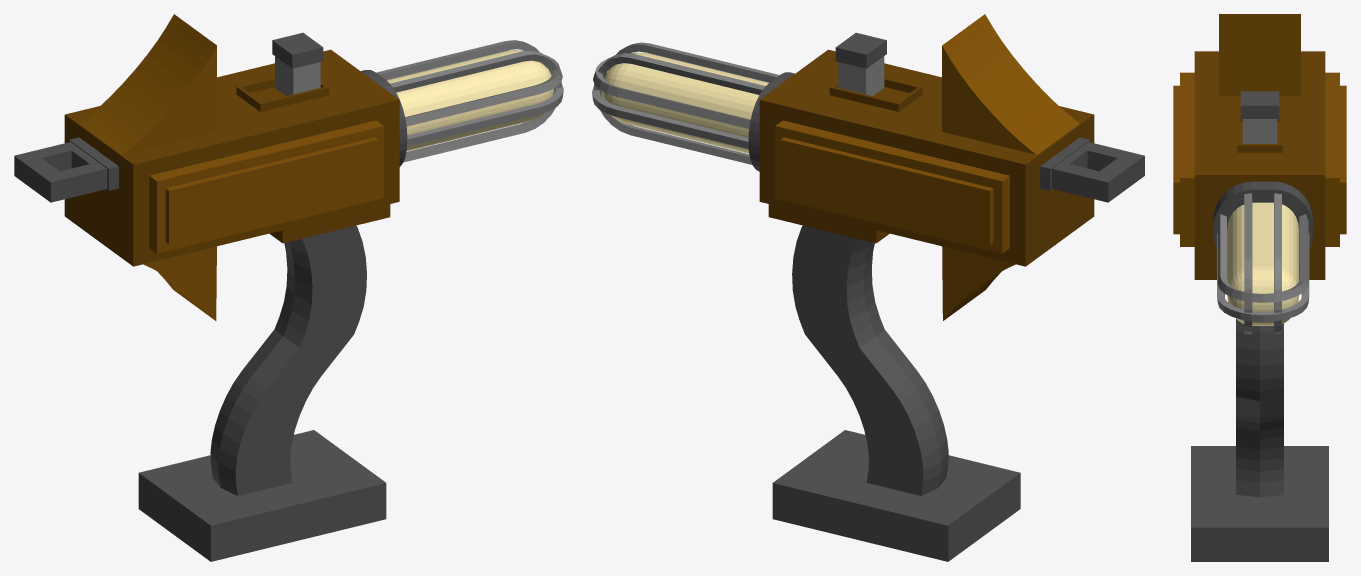
File: ObjectsForThereWFR(LamparasText).fbx
3 renders of one model, left to right at view 1: azimuth 30°, elevation 25°; view 2: azimuth 150°, elevation 25°; view 3: azimuth 270°, elevation 25°, orthographic. The views are drawn at different scales.
Visible parts, largest first — view 1: Cube; view 2: Cube; view 3: Cube.
Part boxes in pixels (x1,y1,x2,y2): Cube: (14,14,563,561); Cube: (592,14,1144,561); Cube: (1173,14,1346,561).
Size of the model in its own units: 326 by 297 by 97.68.
